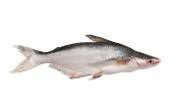Pangasius: (7, 33, 164, 80)
